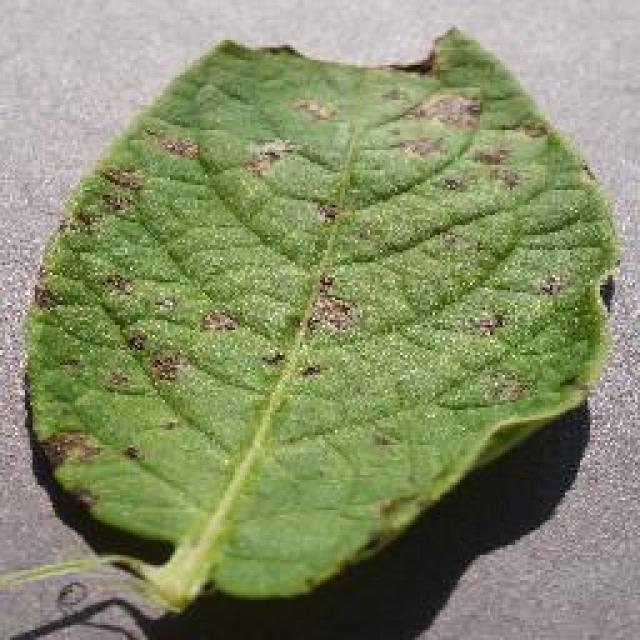green waste: (11, 22, 612, 619)
